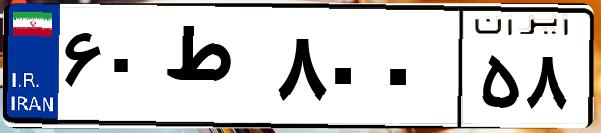0: (385, 28, 445, 110), (330, 28, 385, 110), (110, 28, 158, 98)
5: (475, 38, 525, 113)
6: (57, 26, 110, 100)
8: (270, 28, 330, 110), (525, 38, 570, 115)
ط: (158, 20, 270, 120)
